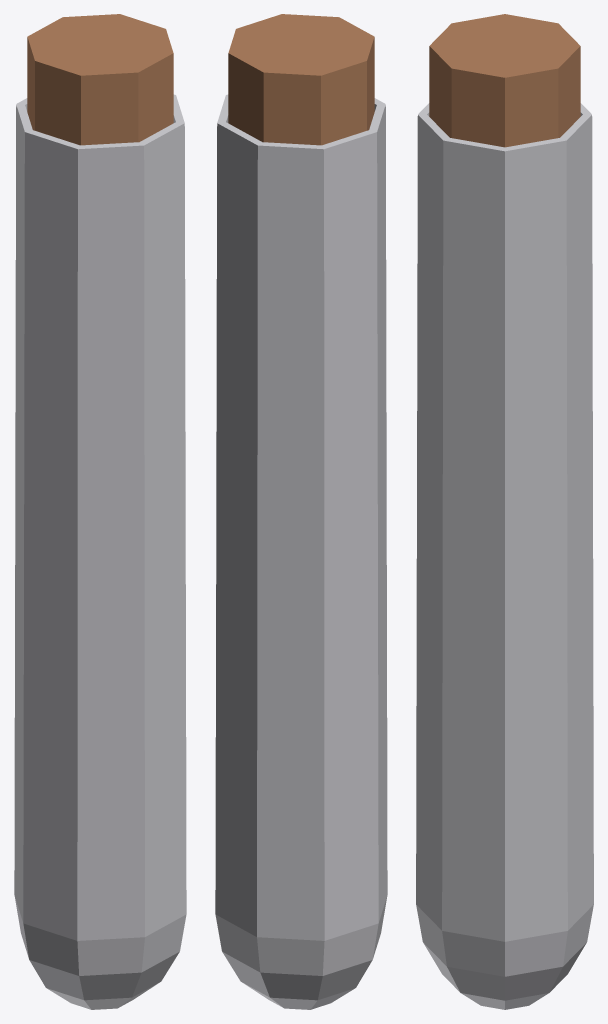
Rendered from potion1.fbx.
3 views of the same model, side by side, from view 1: azimuth 30°, elevation 25°; view 2: azimuth 150°, elevation 25°; view 3: azimuth 270°, elevation 25° (orthographic).
Parts seen in each view (by area): view 1: Sphere, Cylinder; view 2: Sphere, Cylinder; view 3: Sphere, Cylinder.
Part boxes in pixels (bbox=[...]): Sphere: bbox=[14, 94, 186, 1009]; Cylinder: bbox=[27, 14, 173, 145]; Sphere: bbox=[215, 94, 387, 1009]; Cylinder: bbox=[228, 14, 374, 145]; Sphere: bbox=[416, 103, 593, 1009]; Cylinder: bbox=[429, 14, 580, 147].
Bounding box in the file's own units: 9.85 × 58.49 × 9.85.
